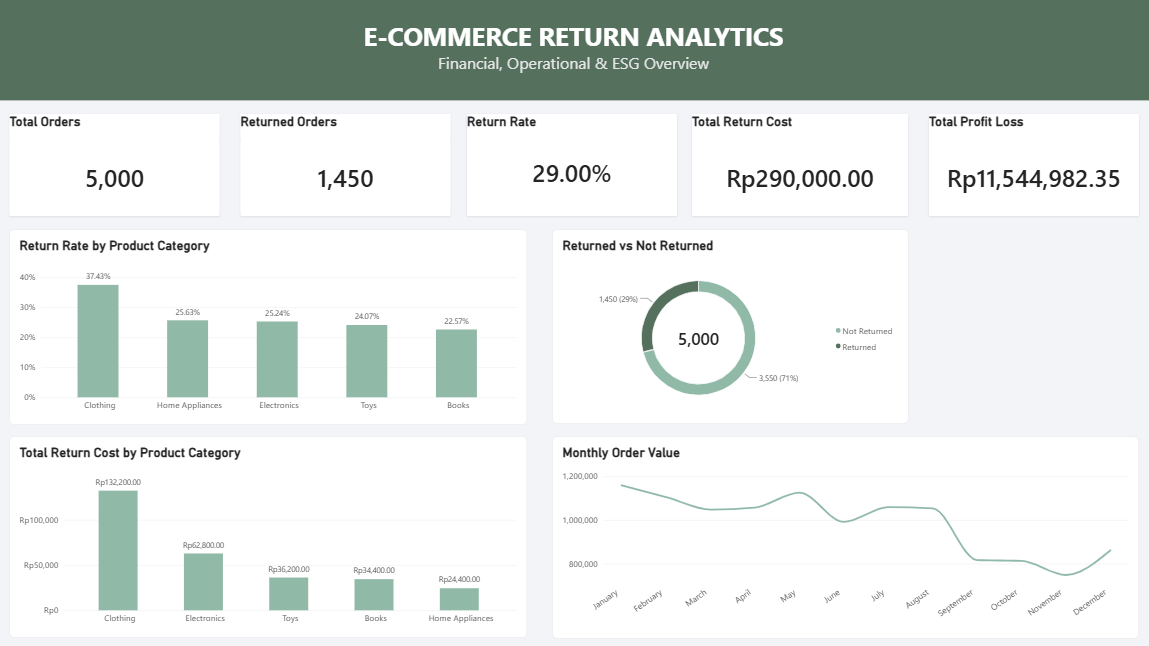

This screenshot's page, from the dashboard's own definition file:
{"tool":"powerbi","page":{"name":"Page 1","canvas":[1920,1080],"ordinal":0},"visuals":[{"type":"shape","box":[0,0,1920,167.5],"z":0},{"type":"textbox","box":[460,30,995,105],"z":1000},{"type":"cardVisual","title":"Total Profit Loss","fields":{"Data":["Raw.Total Profit Loss"]},"box":[1550,188.9,350,170],"z":2000},{"type":"cardVisual","title":"Return Rate","fields":{"Data":["Raw.Return Rate"]},"box":[780,188.9,350,170],"z":3000},{"type":"cardVisual","title":"Total Orders","fields":{"Data":["Raw.Total Orders"]},"box":[17.5,188.9,350,170],"z":4000},{"type":"cardVisual","title":"Returned Orders","fields":{"Data":["Raw.Returned Orders"]},"box":[402.5,188.9,350,170],"z":5000},{"type":"cardVisual","title":"Total Return Cost","fields":{"Data":["Raw.Total Return Cost"]},"box":[1155,188.9,360,170],"z":6000},{"type":"clusteredColumnChart","title":"Return Rate by Product Category","fields":{"Category":["Raw.Product_Category"],"Y":["Raw.Return Rate"]},"box":[17.5,382.2,862.5,325],"z":7000},{"type":"clusteredColumnChart","title":"Total Return Cost by Product Category","fields":{"Category":["Raw.Product_Category"],"Y":["Raw.Total Return Cost"]},"box":[17.5,727.2,862.5,335],"z":8000},{"type":"donutChart","title":"Returned vs Not Returned","fields":{"Category":["Raw.Return_Status"],"Y":["Raw.Total Orders"]},"box":[923.3,383.3,593.3,323.3],"z":9000},{"type":"lineChart","title":"Monthly Order Value","fields":{"Category":["Raw.Order_Date.Variation.Date Hierarchy.Month"],"Y":["Sum(Raw.Order_Value)"]},"box":[923.3,726.7,976.7,336.7],"z":10000},{"type":"textbox","box":[18,725,306,279],"z":12000},{"type":"textbox","box":[696,725,202,279],"z":13000}]}

Visuals, with their boxes in screenshot pixels (x1, y1, x2, y2), scaled from the page's 1920x1080 canvas onto the 1149x646 screenshot:
shape: [x1=0, y1=0, x2=1148, y2=100]
textbox: [x1=275, y1=18, x2=871, y2=81]
"Total Profit Loss" cardVisual: [x1=928, y1=113, x2=1137, y2=215]
"Return Rate" cardVisual: [x1=467, y1=113, x2=676, y2=215]
"Total Orders" cardVisual: [x1=10, y1=113, x2=220, y2=215]
"Returned Orders" cardVisual: [x1=241, y1=113, x2=450, y2=215]
"Total Return Cost" cardVisual: [x1=691, y1=113, x2=907, y2=215]
"Return Rate by Product Category" clusteredColumnChart: [x1=10, y1=229, x2=527, y2=423]
"Total Return Cost by Product Category" clusteredColumnChart: [x1=10, y1=435, x2=527, y2=635]
"Returned vs Not Returned" donutChart: [x1=553, y1=229, x2=908, y2=423]
"Monthly Order Value" lineChart: [x1=553, y1=435, x2=1137, y2=636]
textbox: [x1=11, y1=434, x2=194, y2=601]
textbox: [x1=417, y1=434, x2=537, y2=601]
